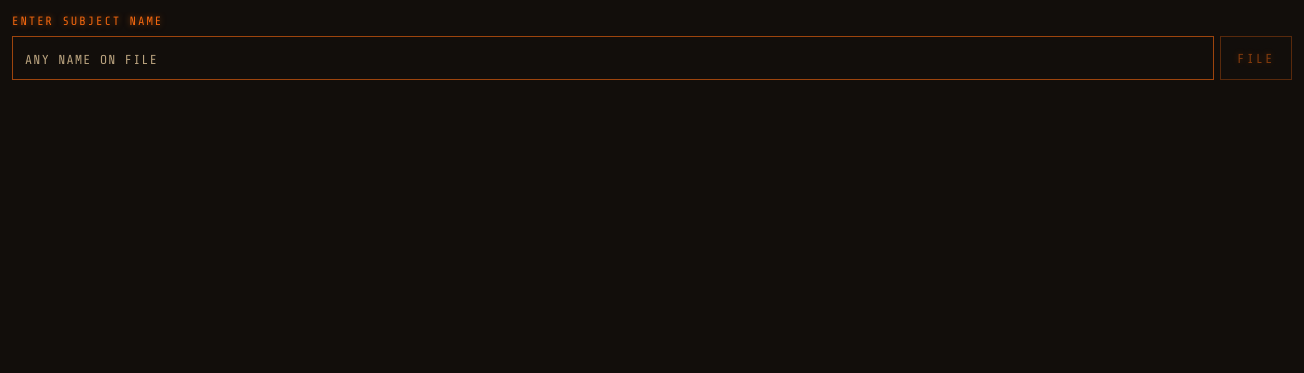
Test case: SubjectSearch › is an ARIA 1.2 combobox wired to its listbox
Later steps or results of the test are not shown.
In the dropdown labelled "Enter subject name": (613, 58) [12, 36, 1214, 80], type "x"
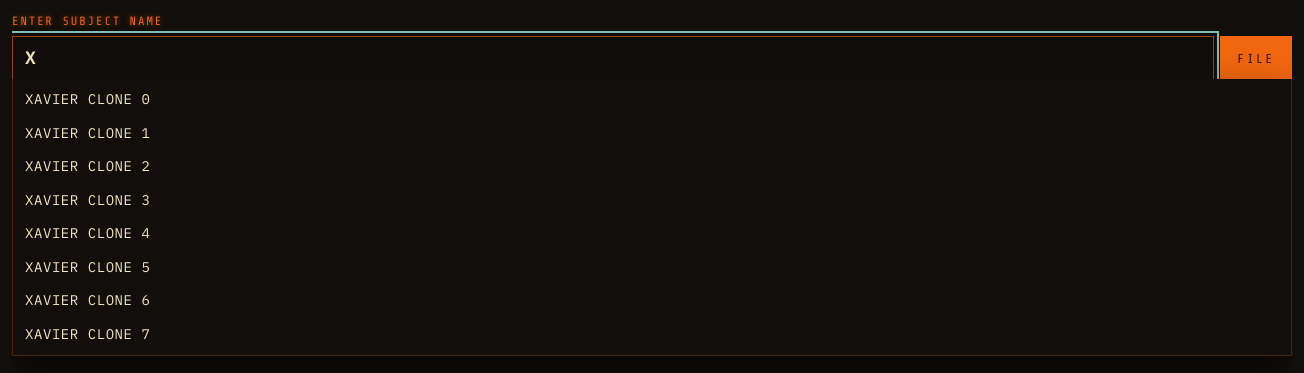
Check: the dropdown labelled "Enter subject name" is expanded, box [12, 36, 1214, 80]
Check: the number of options is 8
Press Arrowdown
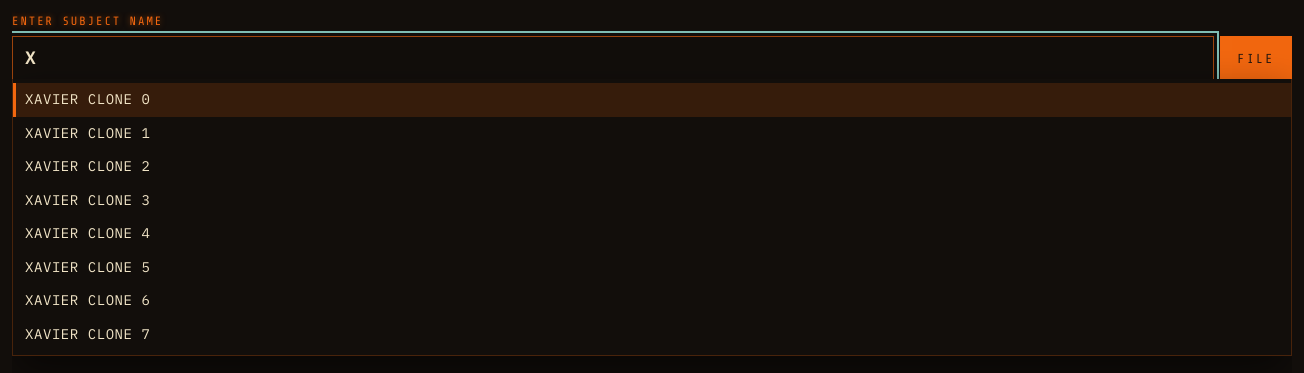
Check: the option "Xavier Clone 0" is selected, box [13, 83, 1291, 116]
